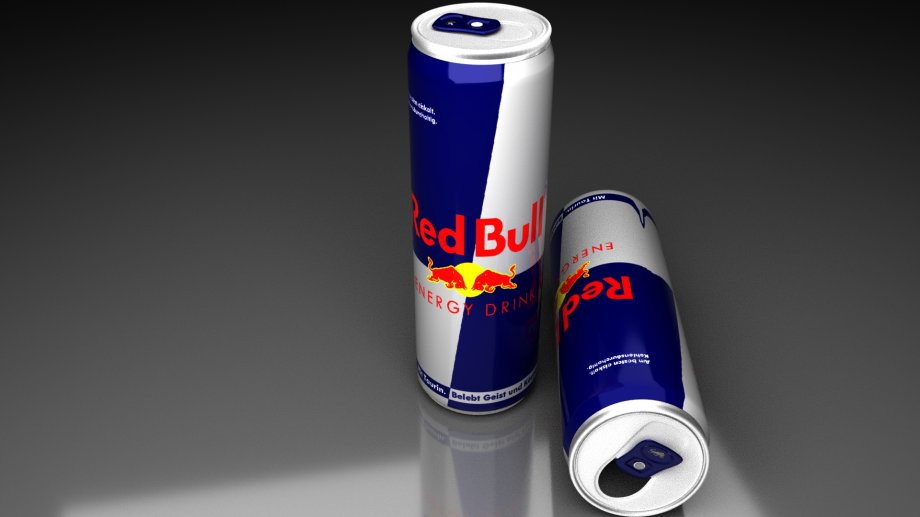redbull: (409, 2, 542, 421), (552, 188, 719, 517)
